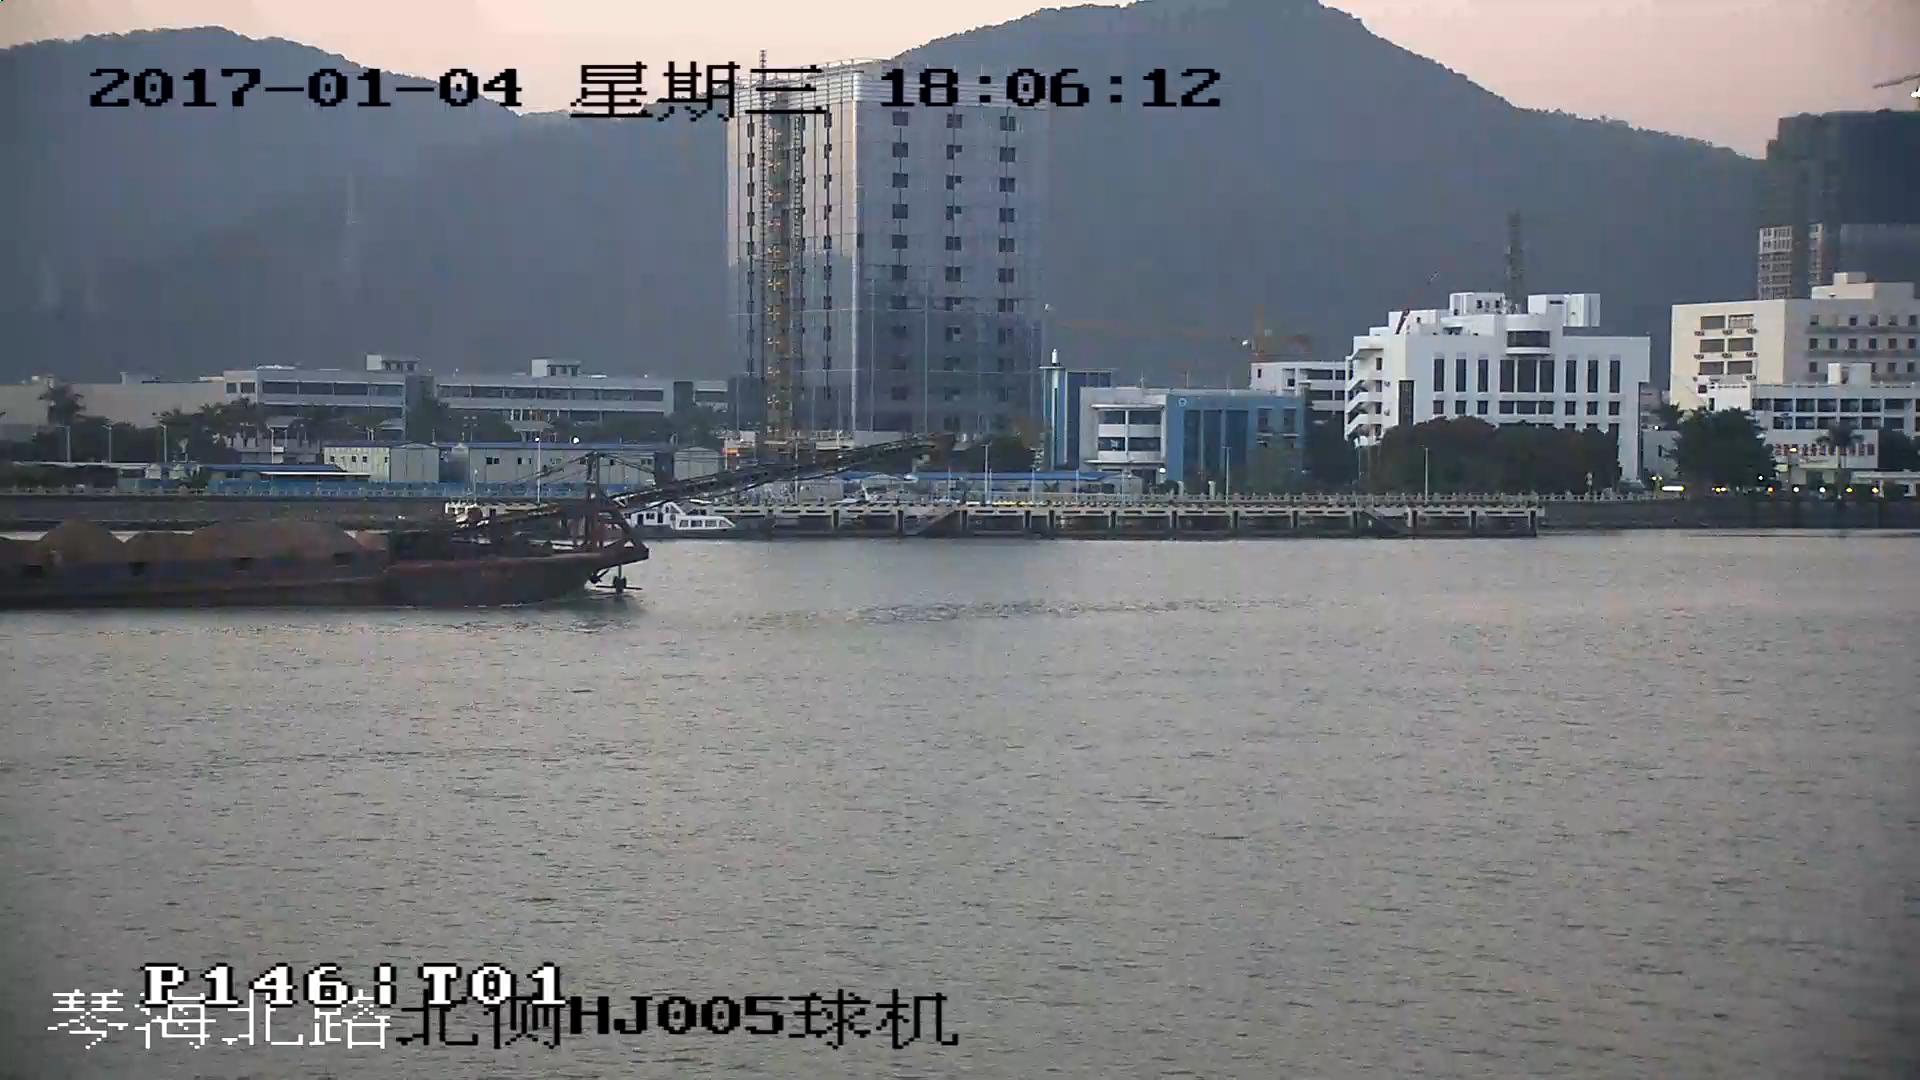ore carrier: (1, 447, 919, 612)
